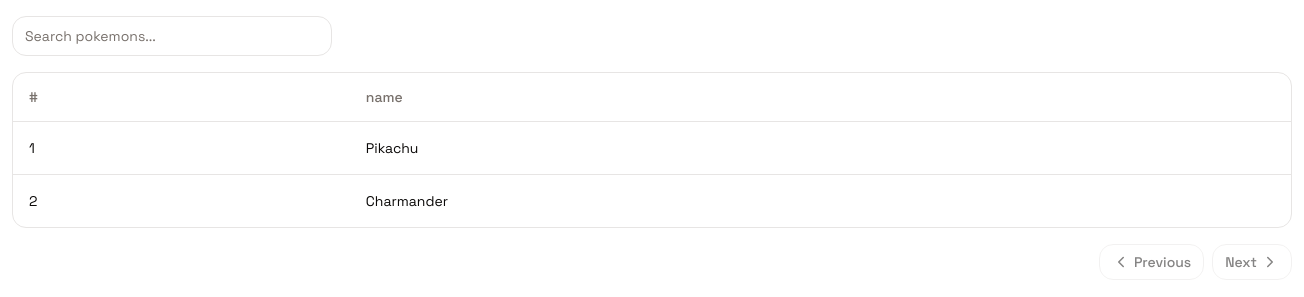
Test: DataTable › should display no results when filter returns empty
Type "ReturnsNoResults" into the field with placeholder "Search pokemons..." at (172, 36), box [12,16,332,56]
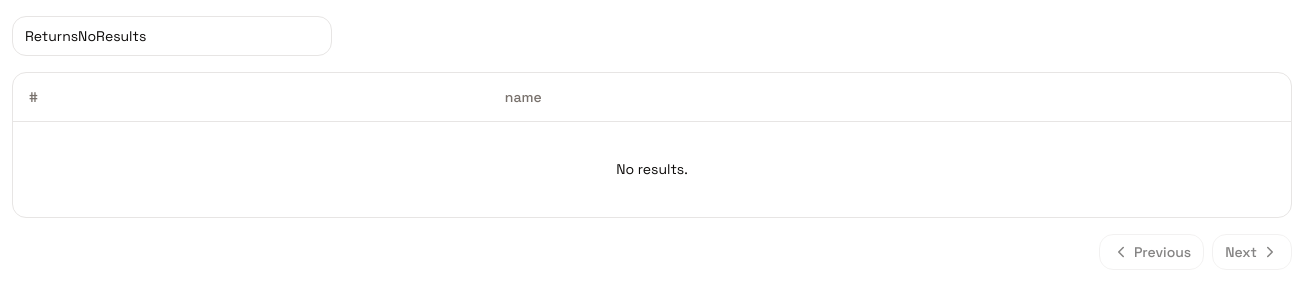
Now the text "No results." is shown, box [13,121,1291,217]
